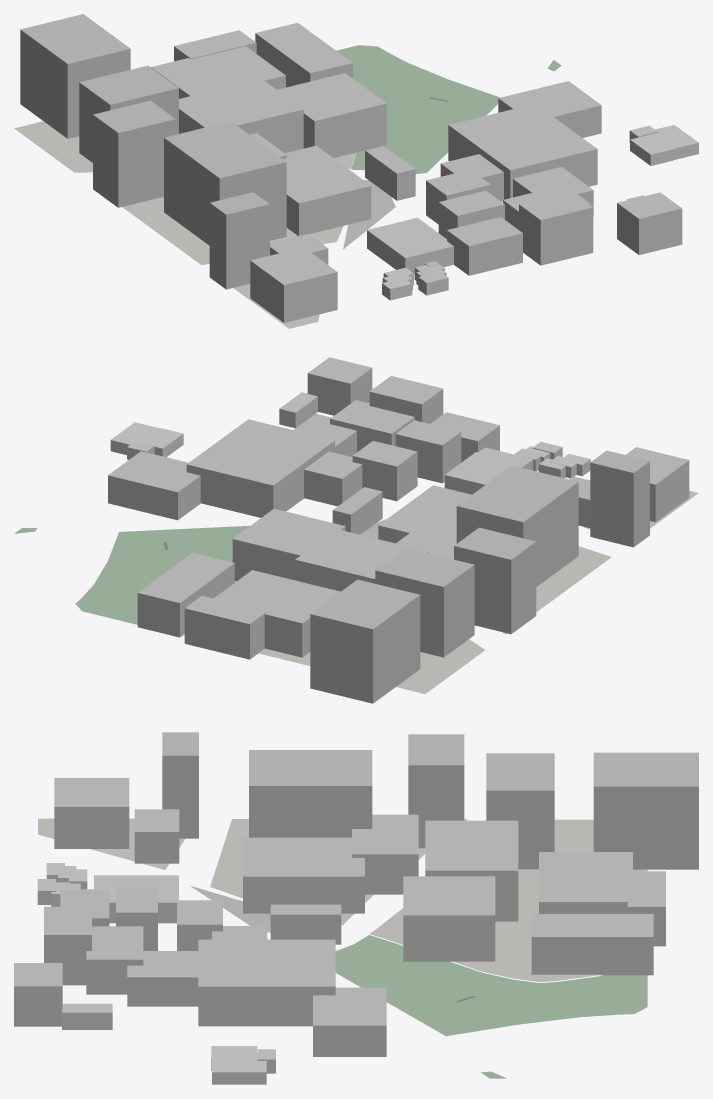
Rendered from 131_104_mid.glb.
3 views of the same model, one above another, from view 1: azimuth 30°, elevation 25°; view 2: azimuth 150°, elevation 25°; view 3: azimuth 270°, elevation 25° (orthographic). The views are drawn at different scales.
Bounding box in the file's own units: 520 × 77.17 × 562.
